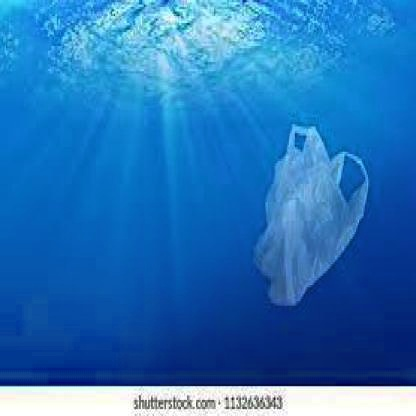pbag: (252, 120, 371, 310)
